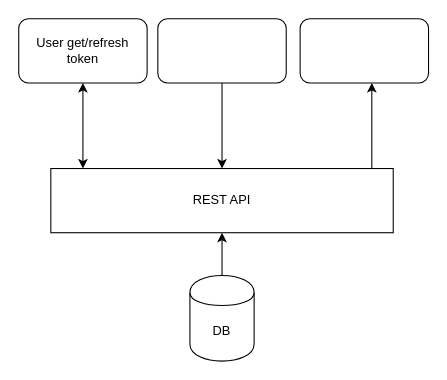
This 447x380 diagram has some shape labels left out. The shapes that lost their labels are listed below. From the top down, each one's box as (x1, y1, x2, y2) in pixels, then its label:
(157, 18, 286, 83): User submit review
(299, 18, 429, 83): User retrieve review
